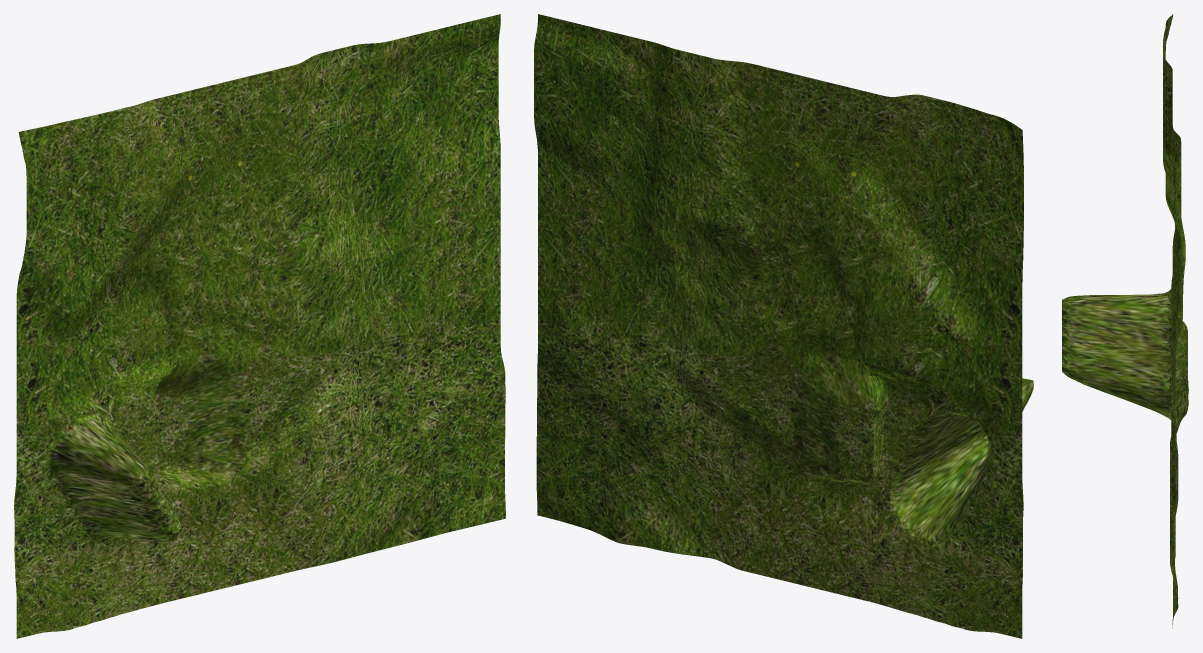
Rendered from myterrain2.obj.
The picture shows the model from 3 angles, left to right: view 1: azimuth 30°, elevation 25°; view 2: azimuth 150°, elevation 25°; view 3: azimuth 270°, elevation 25°; orthographic projection. The views are drawn at different scales.
Visible parts, largest first — view 1: Plane; view 2: Plane; view 3: Plane.
Boxes of the visible parts, x1=… form: Plane: x1=14, y1=14, x2=505, y2=638; Plane: x1=534, y1=14, x2=1033, y2=638; Plane: x1=1062, y1=14, x2=1188, y2=628.
Bounding box in the file's own units: 15.85 × 15.99 × 4.22.
1 material, 1 textured.
